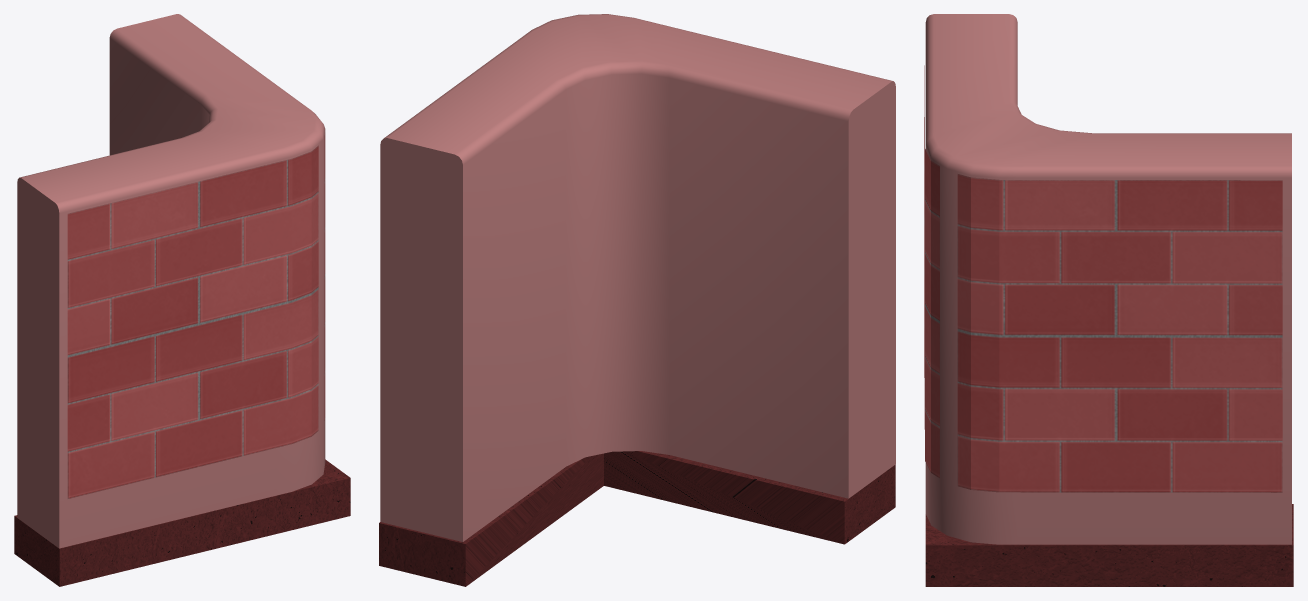
Rendered from brick_wall_corner.glb.
The picture shows the model from 3 angles, left to right: view 1: azimuth 30°, elevation 25°; view 2: azimuth 150°, elevation 25°; view 3: azimuth 270°, elevation 25°; orthographic projection. The views are drawn at different scales.
Parts seen in each view (by area): view 1: Red_Bricks_Corner_O_2, Red_Corner_O, Red_Corner_O_Wedge, Red_Bricks_Corner_O_1; view 2: Red_Corner_O, Red_Corner_O_Wedge; view 3: Red_Bricks_Corner_O_1, Red_Corner_O, Red_Corner_O_Wedge, Red_Bricks_Corner_O_2.
Part boxes in pixels (<box>): Red_Bricks_Corner_O_2: <box>67,145,318,498</box>; Red_Corner_O: <box>17,14,325,548</box>; Red_Corner_O_Wedge: <box>14,459,350,586</box>; Red_Bricks_Corner_O_1: <box>324,132,325,420</box>; Red_Corner_O: <box>380,14,895,541</box>; Red_Corner_O_Wedge: <box>379,451,895,586</box>; Red_Bricks_Corner_O_1: <box>957,174,1282,492</box>; Red_Corner_O: <box>925,14,1291,544</box>; Red_Corner_O_Wedge: <box>925,504,1293,586</box>; Red_Bricks_Corner_O_2: <box>924,65,939,478</box>.
Size of the model in its own units: 2.01 by 2.5 by 2.01.
3 materials, 3 textured.
